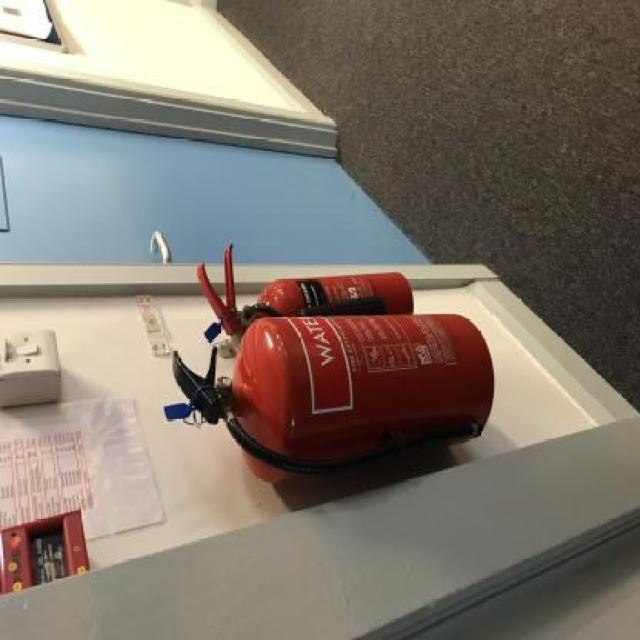fire extinguisher: (171, 309, 494, 493), (196, 244, 413, 342)
